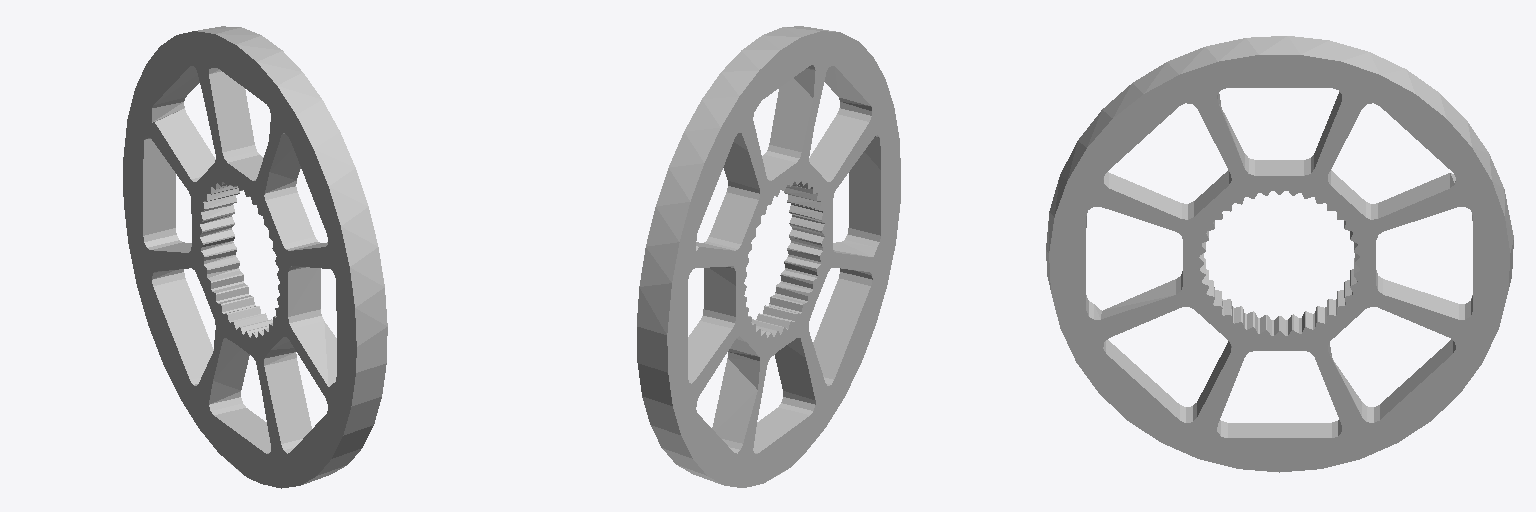
3 views of the same model, side by side, from view 1: azimuth 30°, elevation 25°; view 2: azimuth 150°, elevation 25°; view 3: azimuth 270°, elevation 25° (orthographic).
Visible parts, largest first — view 1: Шайба_Компрессоров_№01№02; view 2: Шайба_Компрессоров_№01№02; view 3: Шайба_Компрессоров_№01№02.
Part boxes in pixels (x1,y1,x2,y2): Шайба_Компрессоров_№01№02: (123, 26, 387, 488); Шайба_Компрессоров_№01№02: (637, 26, 900, 487); Шайба_Компрессоров_№01№02: (1046, 36, 1513, 472).
Size of the model in its own units: 3.5 by 43.65 by 43.59.